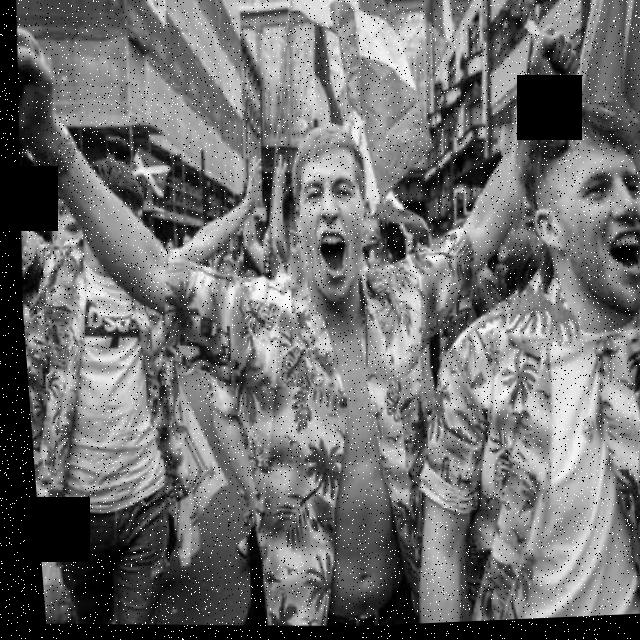happy: (491, 102, 640, 356), (276, 124, 395, 321)
